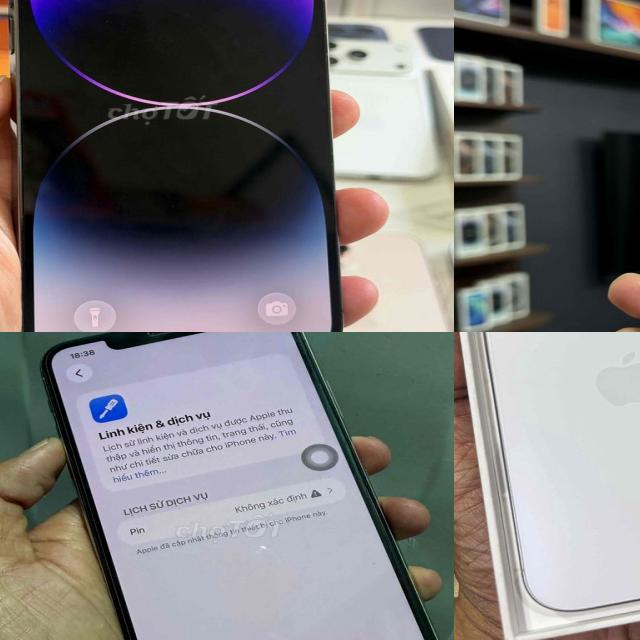gen_11: (7, 332, 454, 640)
gen_14: (1, 0, 353, 332)
gen_16: (460, 332, 640, 629)
